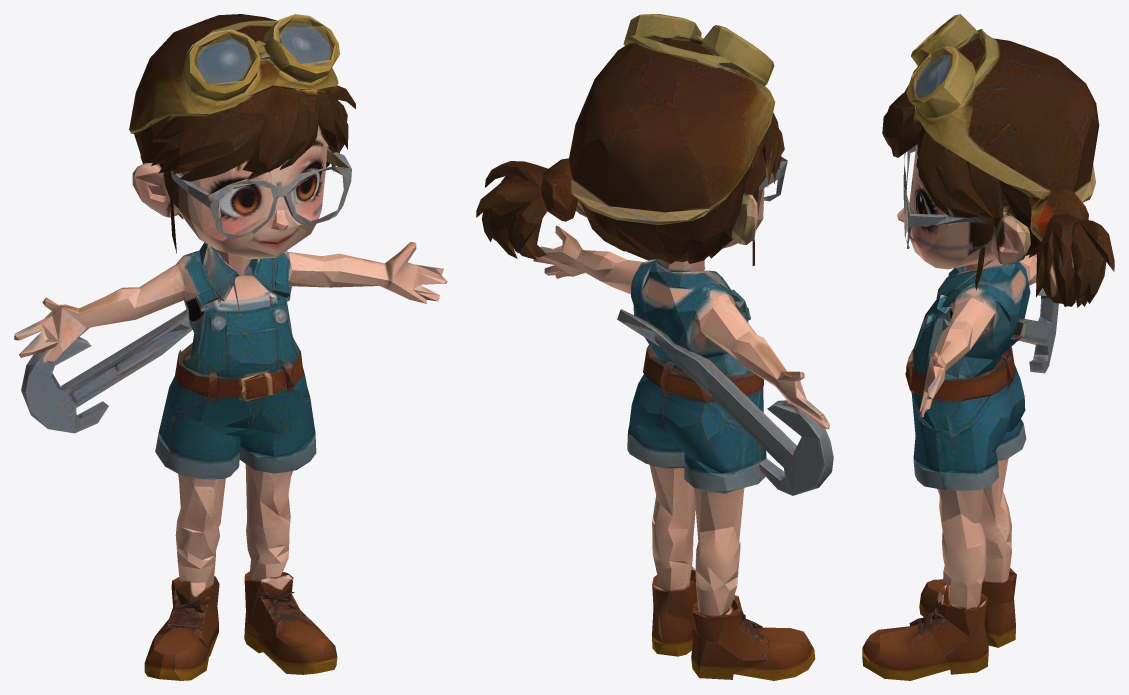
The model's file is held_tueftler.glb.
The picture shows the model from 3 angles, left to right: view 1: azimuth 30°, elevation 25°; view 2: azimuth 150°, elevation 25°; view 3: azimuth 270°, elevation 25°; orthographic projection.
Size of the model in its own units: 1.14 by 1.9 by 0.6946.
Materials: 1 (1 with a texture image).
